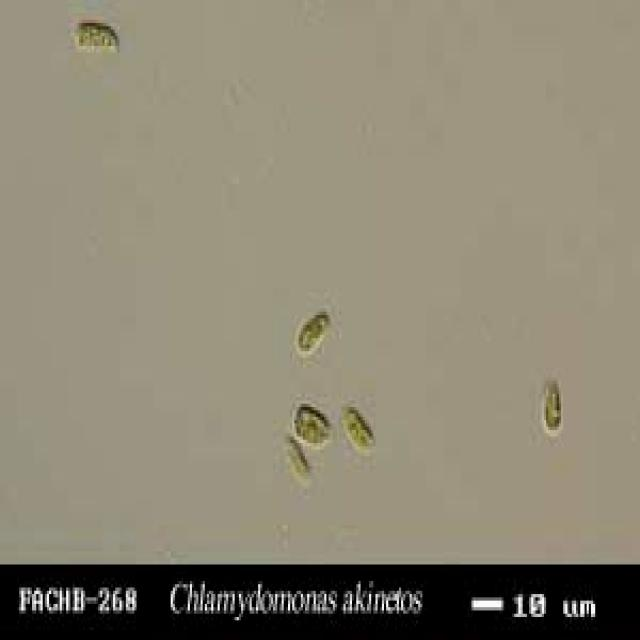Green Algae: (70, 16, 124, 59), (292, 397, 333, 450), (280, 426, 314, 486), (294, 309, 333, 361), (339, 404, 378, 456), (540, 374, 567, 440)
